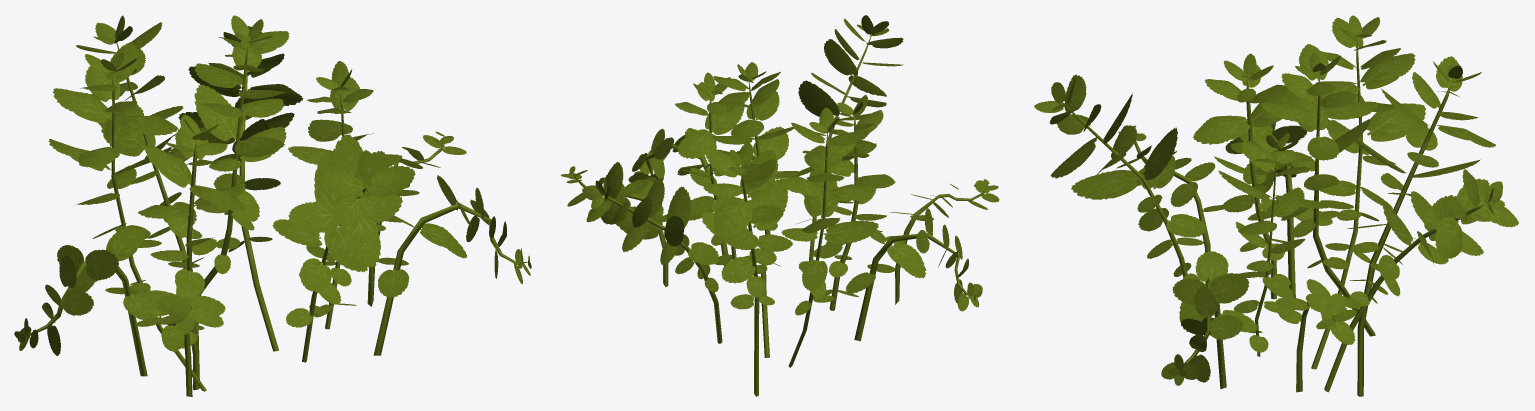
Rendered from mint.glb.
3 renders of one model, left to right at view 1: azimuth 30°, elevation 25°; view 2: azimuth 150°, elevation 25°; view 3: azimuth 270°, elevation 25°, orthographic. The views are drawn at different scales.
Visible parts, largest first — view 1: Mint; view 2: Mint; view 3: Mint.
Part boxes in pixels (x1,y1,x2,y2): Mint: (14, 15, 531, 396); Mint: (560, 15, 999, 396); Mint: (1034, 15, 1518, 396).
Bounding box in the file's own units: 0.294 × 0.2221 × 0.2768.
Materials: 1 (1 with a texture image).
